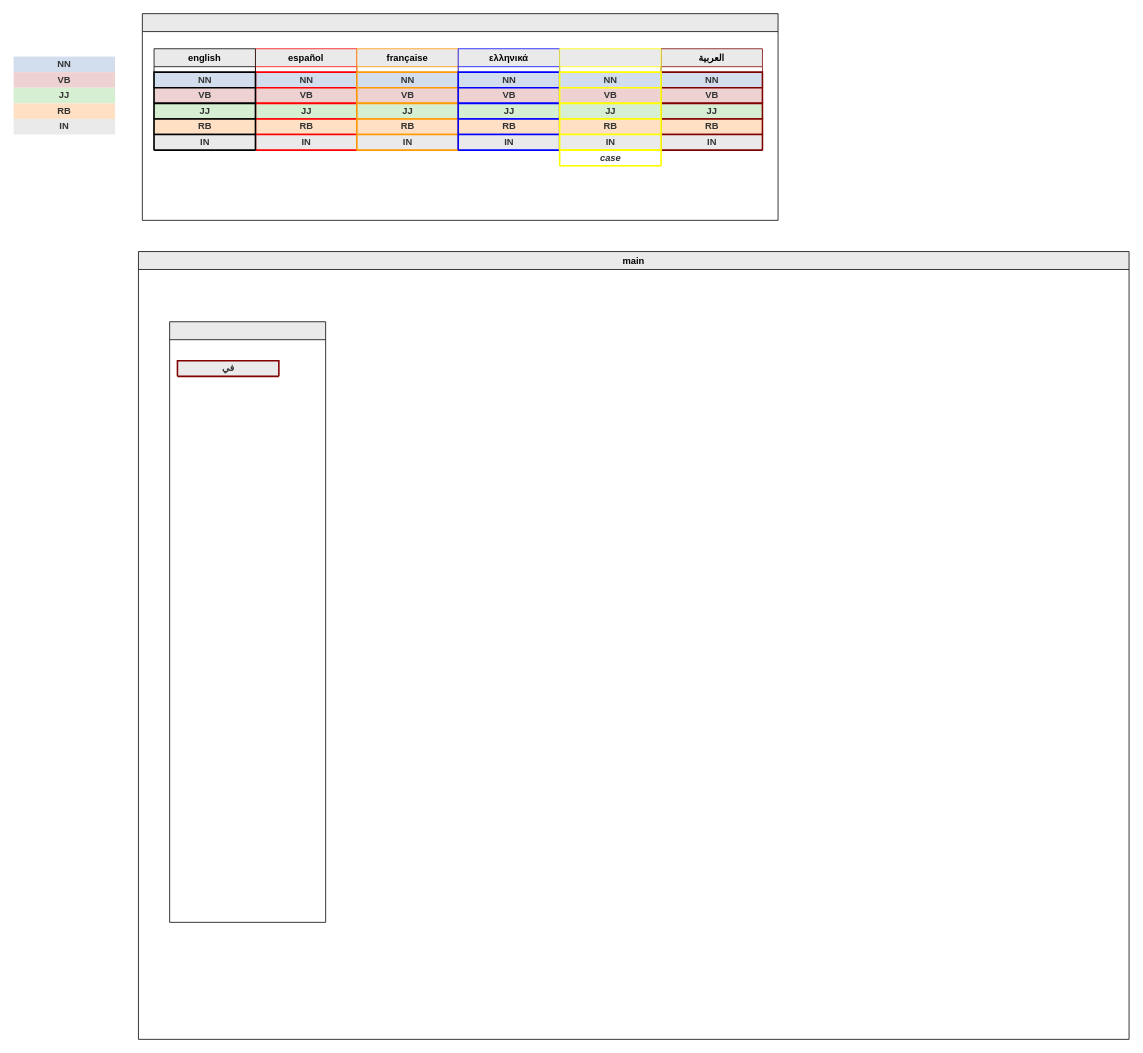
Some shapes in this 1143 by 1053 pixel diagram are drawn without their labels. Each missing label, with the box of its shape:
different languages: (142, 13, 778, 220)
during it: (169, 321, 326, 922)
latīna: (559, 48, 661, 166)
